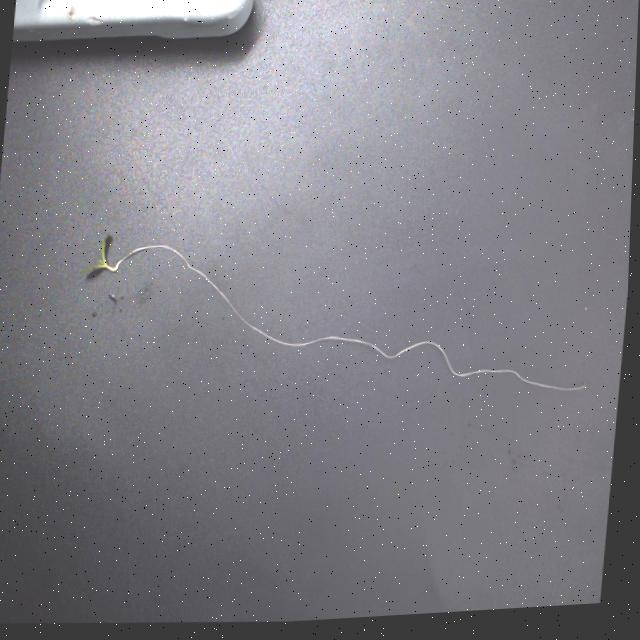leaf: (79, 232, 114, 278)
root: (127, 242, 592, 401)
steb: (102, 250, 132, 278)
